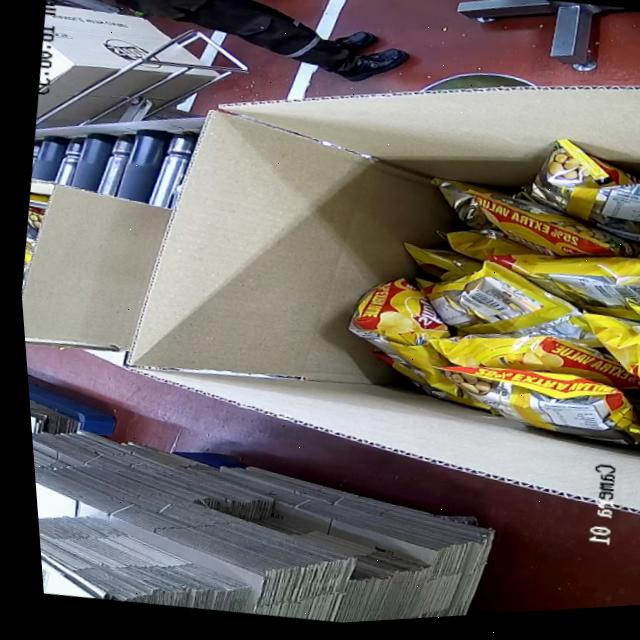SALTED: (313, 96, 640, 478), (14, 183, 57, 324)
